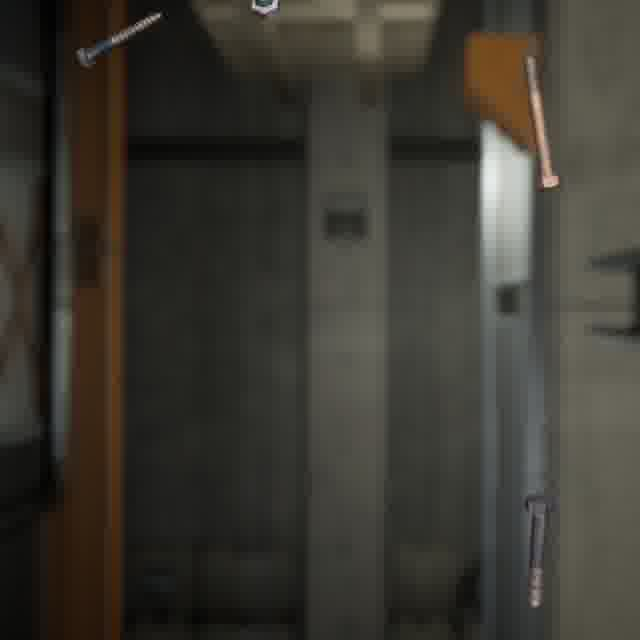bolt: (517, 51, 568, 194), (71, 7, 167, 73), (520, 488, 561, 611), (246, 0, 284, 24)
